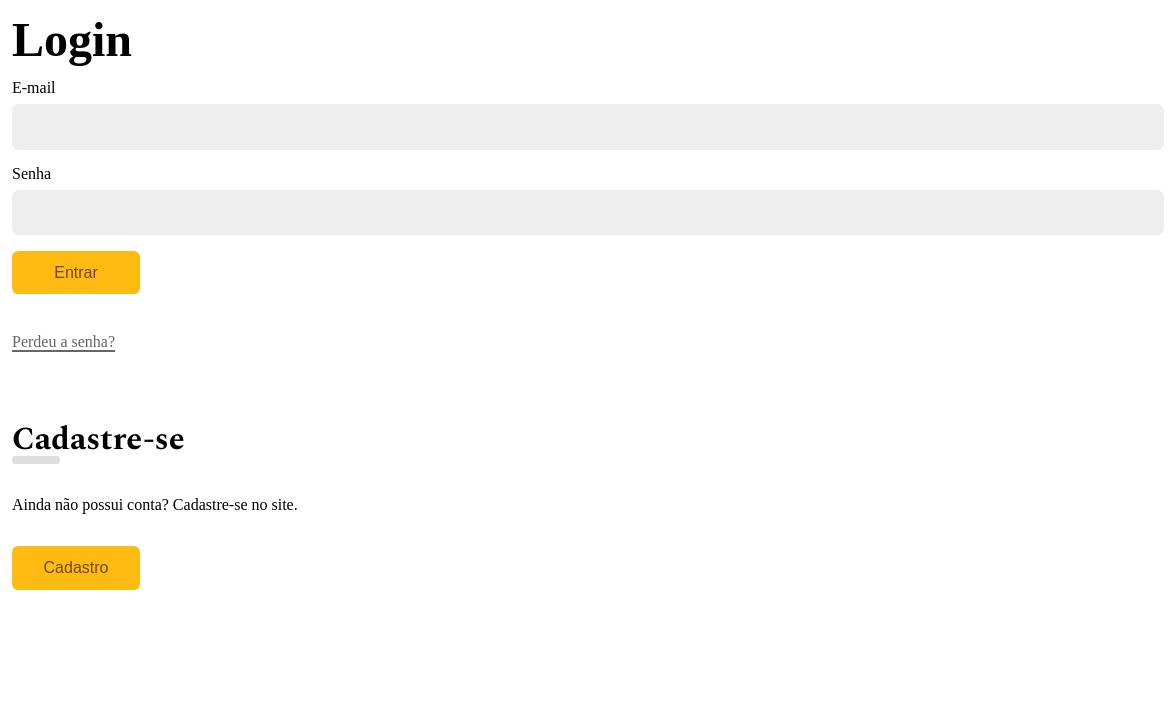
Test case: LoginForm › shows validation messages for empty submit
Click the button "Entrar": (76, 273) [12,251,140,294]
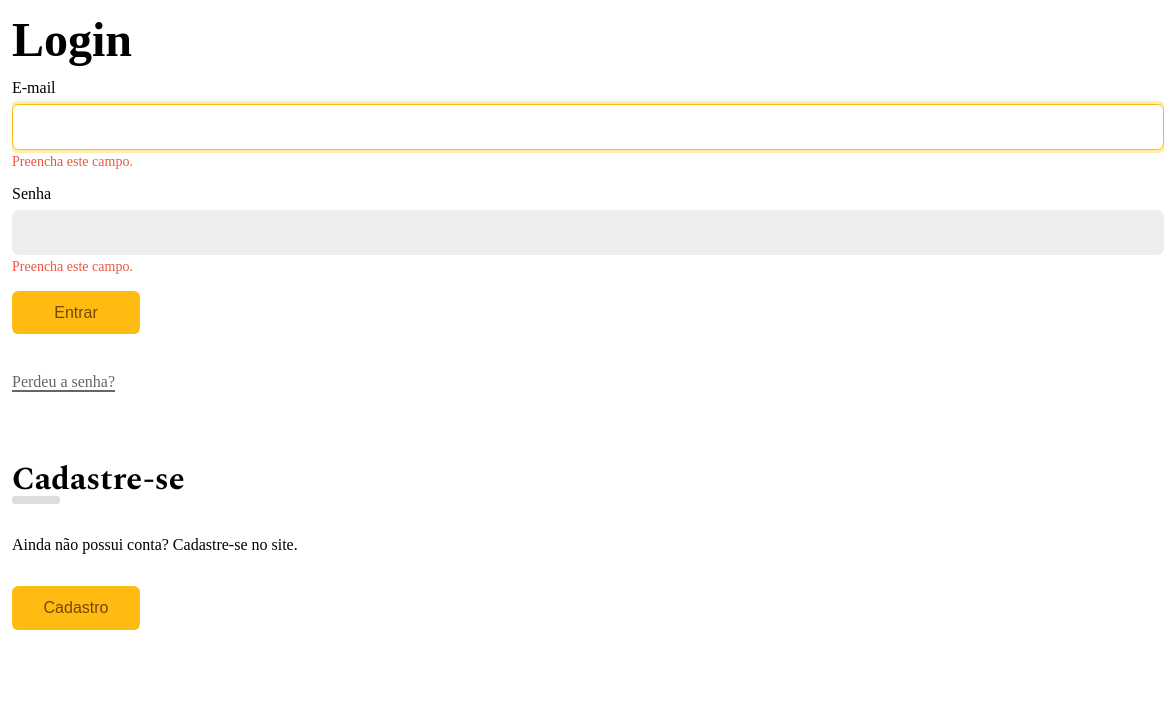
Expected: the text "Preencha este campo." is shown 2 times, [12,154,133,169]; [12,259,133,274]
